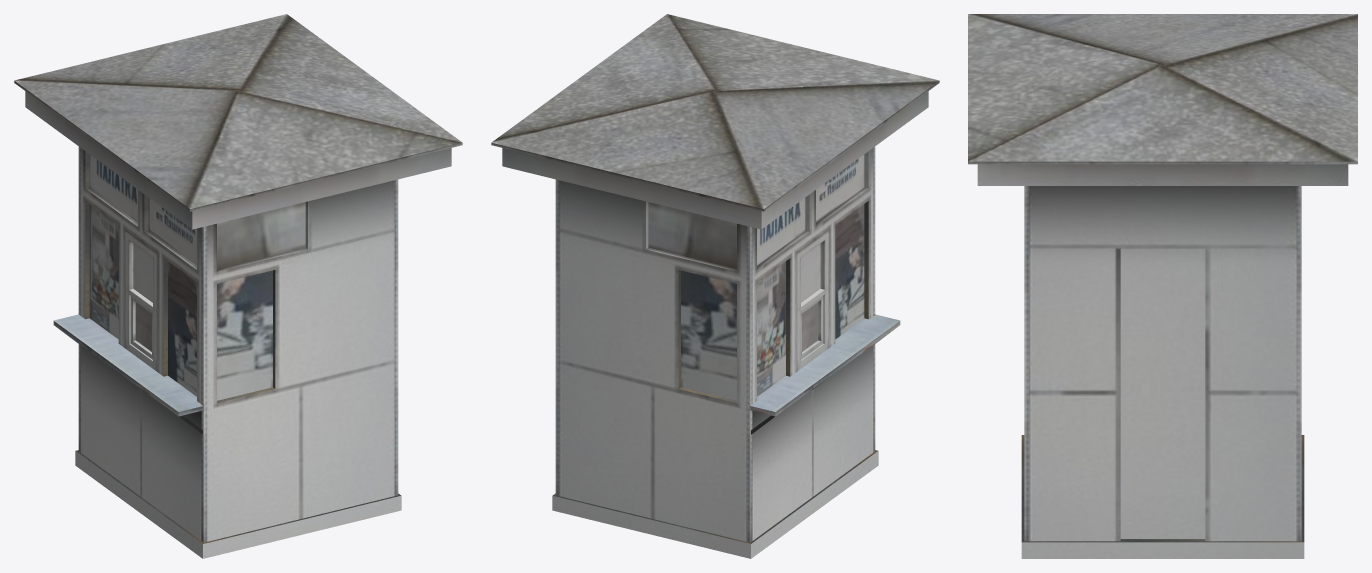
The model's file is kiosk_grey.glb.
3 renders of one model, left to right at view 1: azimuth 30°, elevation 25°; view 2: azimuth 150°, elevation 25°; view 3: azimuth 270°, elevation 25°, orthographic. The views are drawn at different scales.
Visible parts, largest first — view 1: kiosk_grey; view 2: kiosk_grey; view 3: kiosk_grey.
Boxes of the visible parts, x1,y1,x2,y2 form: kiosk_grey: (14,14,462,558); kiosk_grey: (491,14,939,558); kiosk_grey: (968,14,1357,558).
Size of the model in its own units: 1.91 by 2.67 by 2.14.
1 material, 1 textured.
